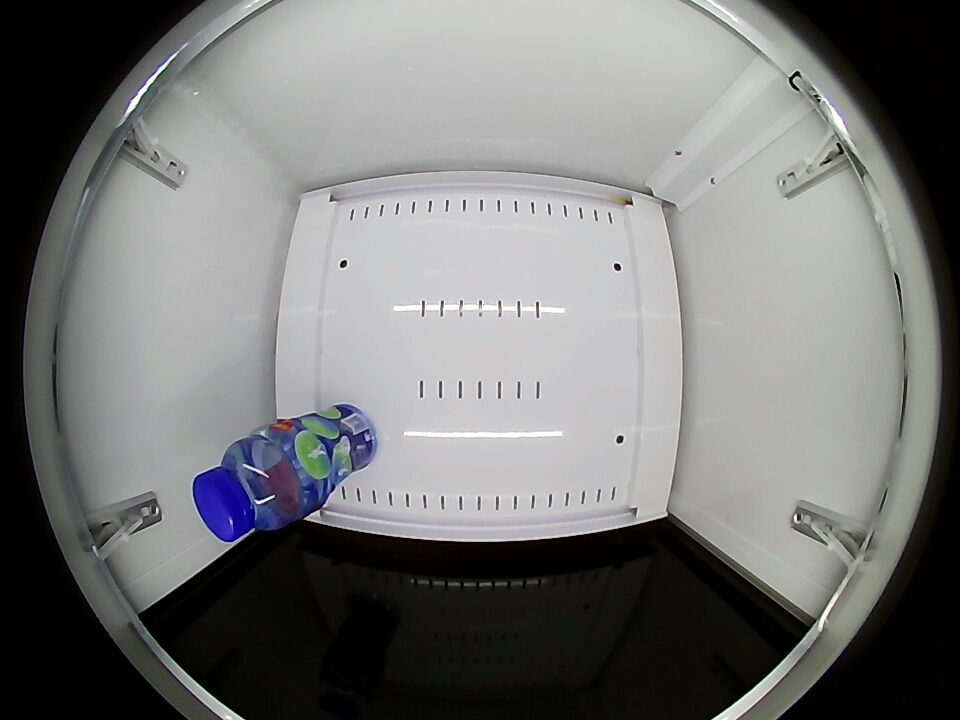maidong: (192, 434, 308, 542)
